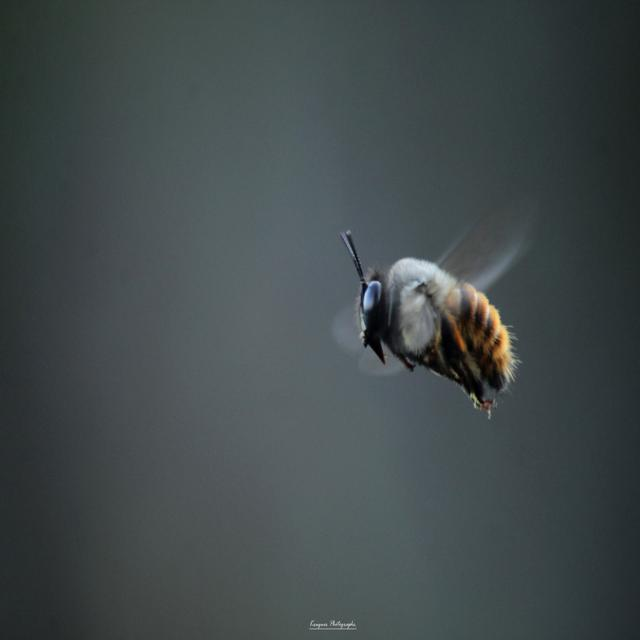bee: (336, 196, 536, 423)
